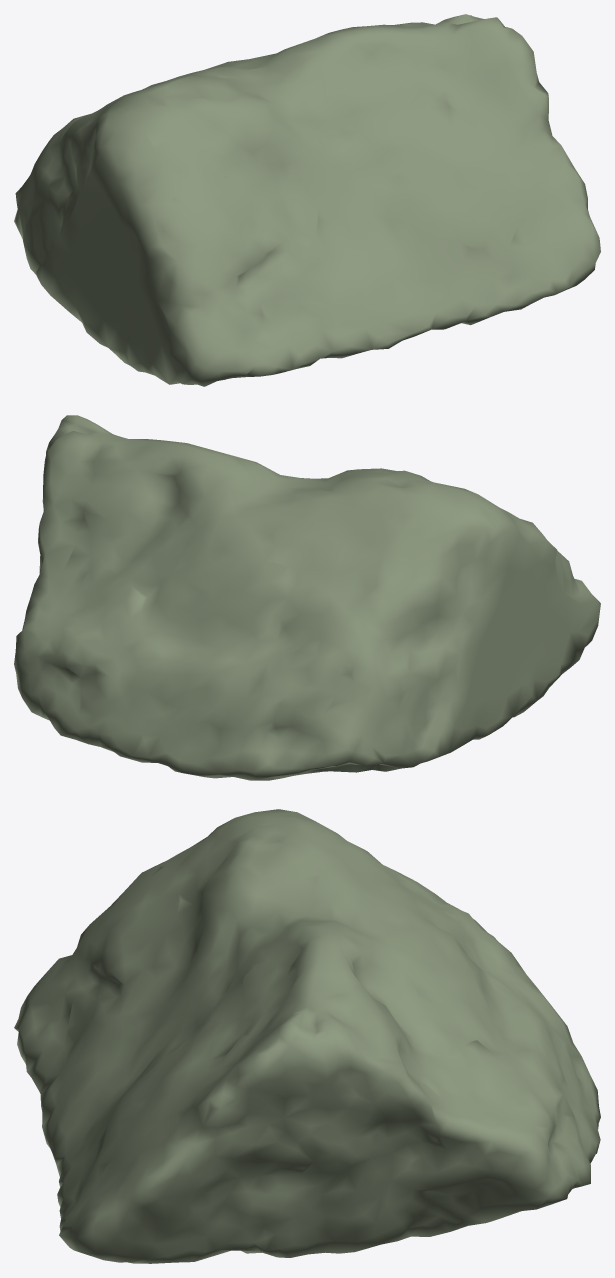
File: rock_moss_set_01_2.glb
3 views of the same model, one above another, from view 1: azimuth 30°, elevation 25°; view 2: azimuth 150°, elevation 25°; view 3: azimuth 270°, elevation 25° (orthographic). The views are drawn at different scales.
Visible parts, largest first — view 1: rock_moss_set_01_2; view 2: rock_moss_set_01_2; view 3: rock_moss_set_01_2.
Part boxes in pixels (x1,y1,x2,y2): rock_moss_set_01_2: (14,14,600,386); rock_moss_set_01_2: (14,415,600,780); rock_moss_set_01_2: (14,809,600,1263).
Bounding box in the file's own units: 2.11 × 1.1 × 2.08.
